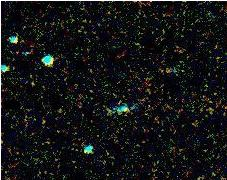star: (109, 95, 139, 125)
